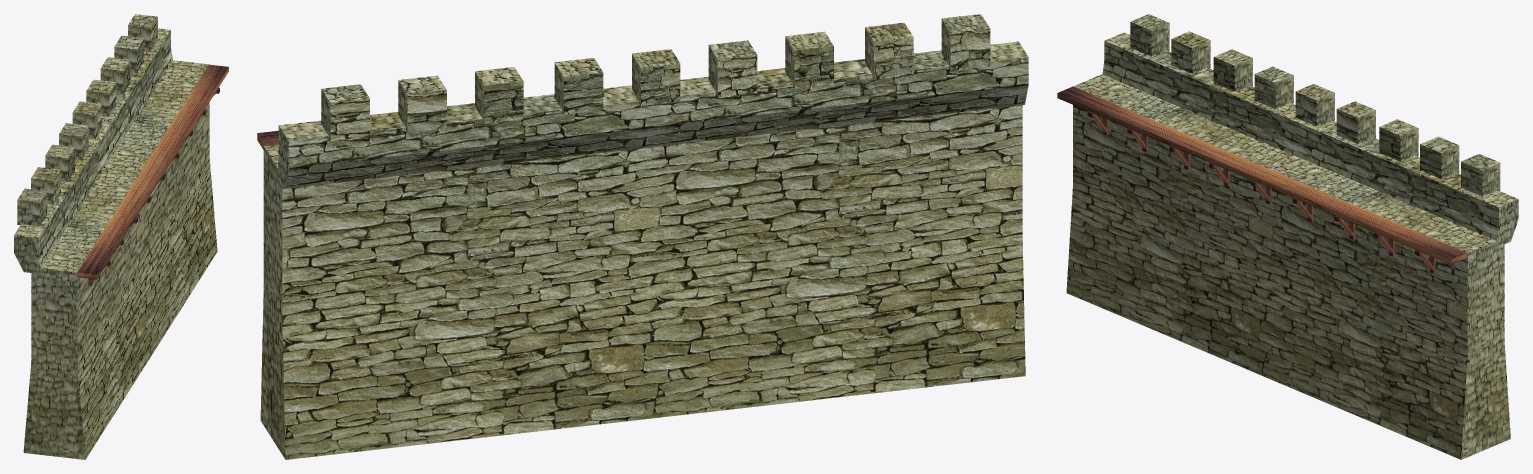
File: WallDiag1.obj
3 views of the same model, side by side, from view 1: azimuth 30°, elevation 25°; view 2: azimuth 150°, elevation 25°; view 3: azimuth 270°, elevation 25° (orthographic). The views are drawn at different scales.
Visible parts, largest first — view 1: limestone, floor; view 2: limestone; view 3: limestone, floor.
Part boxes in pixels (left/top/right/bottom): limestone: left=14, top=14, right=217, bottom=459; floor: left=77, top=64, right=228, bottom=286; limestone: left=260, top=14, right=1028, bottom=459; limestone: left=1066, top=14, right=1518, bottom=459; floor: left=1057, top=86, right=1466, bottom=273.
Bounding box in the file's own units: 122 × 76.58 × 122.
Materials: 2 (2 with a texture image).
